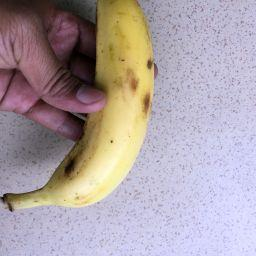Banana Ripe: (21, 0, 171, 223)
